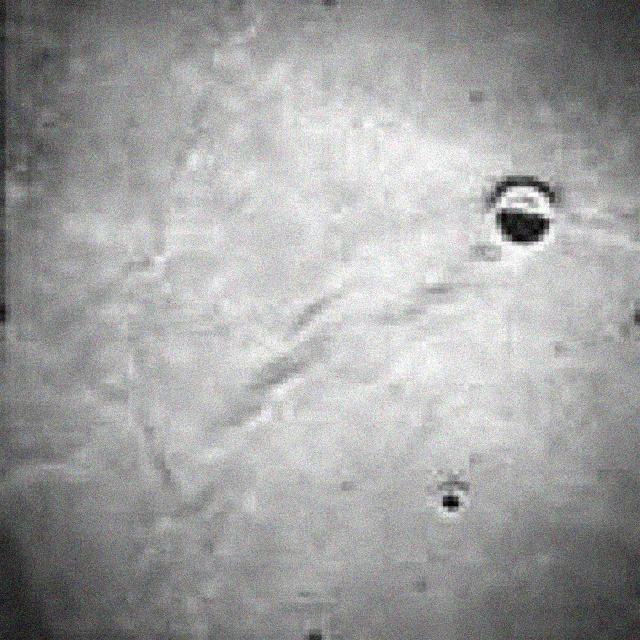crater: (489, 186, 554, 246), (437, 488, 469, 510)
